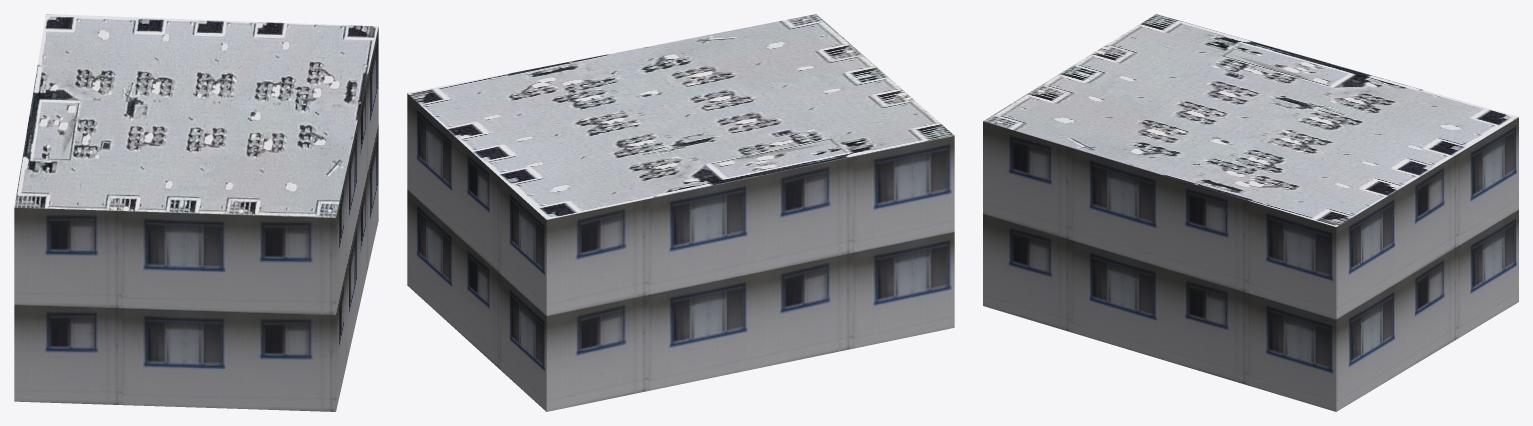
File: ResTex__3227.fbx
3 views of the same model, side by side, from view 1: azimuth 30°, elevation 25°; view 2: azimuth 150°, elevation 25°; view 3: azimuth 270°, elevation 25° (orthographic). The views are drawn at different scales.
Parts seen in each view (by area): view 1: CityEngineMaterial_9_m, CityEngineMaterial_m; view 2: CityEngineMaterial_9_m, CityEngineMaterial_m; view 3: CityEngineMaterial_9_m, CityEngineMaterial_m.
Boxes of the visible parts, x1,y1,x2,y2 form: CityEngineMaterial_9_m: (14,27,378,411); CityEngineMaterial_m: (14,14,378,217); CityEngineMaterial_9_m: (407,93,954,411); CityEngineMaterial_m: (407,14,954,219); CityEngineMaterial_9_m: (983,117,1518,411); CityEngineMaterial_m: (983,14,1518,226).
Bounding box in the file's own units: 14.84 × 6 × 15.76.
Materials: 2 (2 with a texture image).
